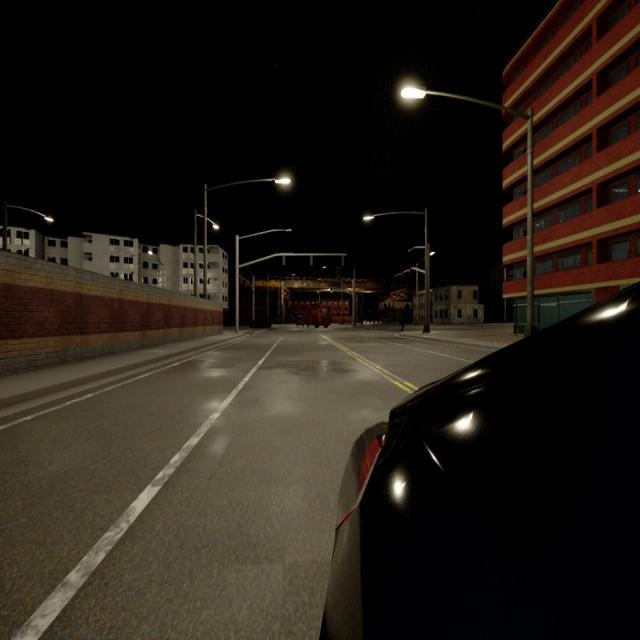Pedestrian: (401, 313, 405, 331)
Vehicle: (322, 285, 640, 638), (308, 306, 328, 328), (249, 317, 271, 328), (296, 316, 304, 326)
traffic_light: (310, 256, 313, 265), (282, 256, 285, 265), (342, 256, 344, 266), (408, 268, 412, 272), (400, 272, 403, 277), (330, 288, 332, 294), (317, 288, 319, 292)
